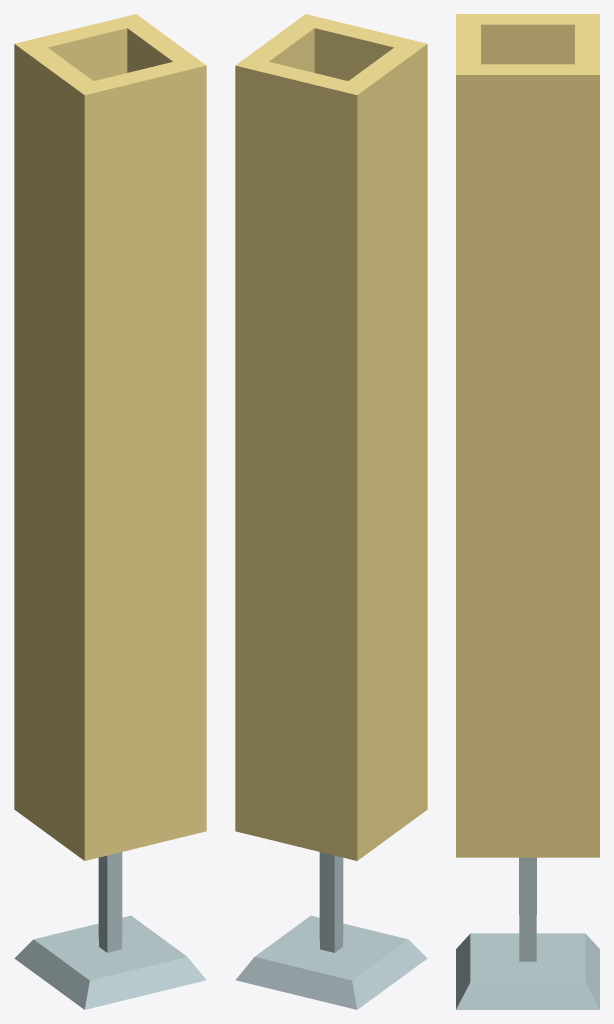
The model's file is Light_Lamp_Square_Floor.glb.
The picture shows the model from 3 angles, left to right: view 1: azimuth 30°, elevation 25°; view 2: azimuth 150°, elevation 25°; view 3: azimuth 270°, elevation 25°; orthographic projection. The views are drawn at different scales.
Visible parts, largest first — view 1: lampSquareFloor; view 2: lampSquareFloor; view 3: lampSquareFloor.
Part boxes in pixels (left/top/right/bottom): lampSquareFloor: left=14, top=14, right=206, bottom=1009; lampSquareFloor: left=235, top=14, right=427, bottom=1009; lampSquareFloor: left=456, top=14, right=599, bottom=1009.
Size of the model in its own units: 0.12 by 0.86 by 0.12.
